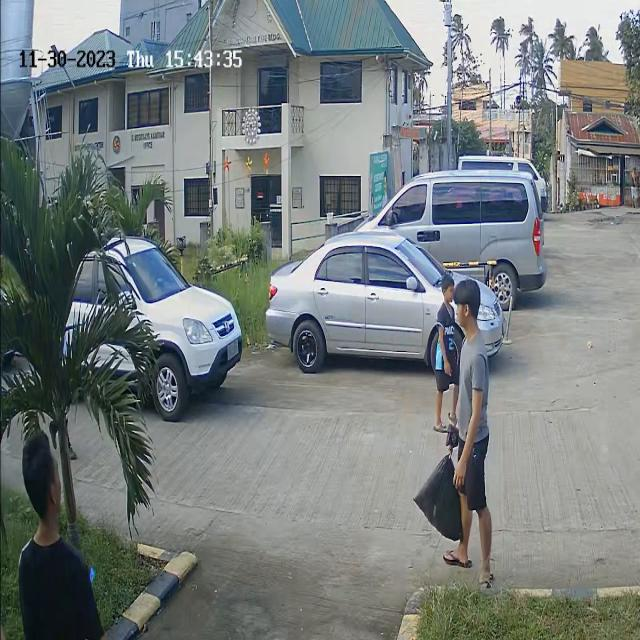garbage: (415, 429, 461, 538)
person: (10, 428, 93, 640), (453, 283, 498, 589), (433, 274, 456, 422)
